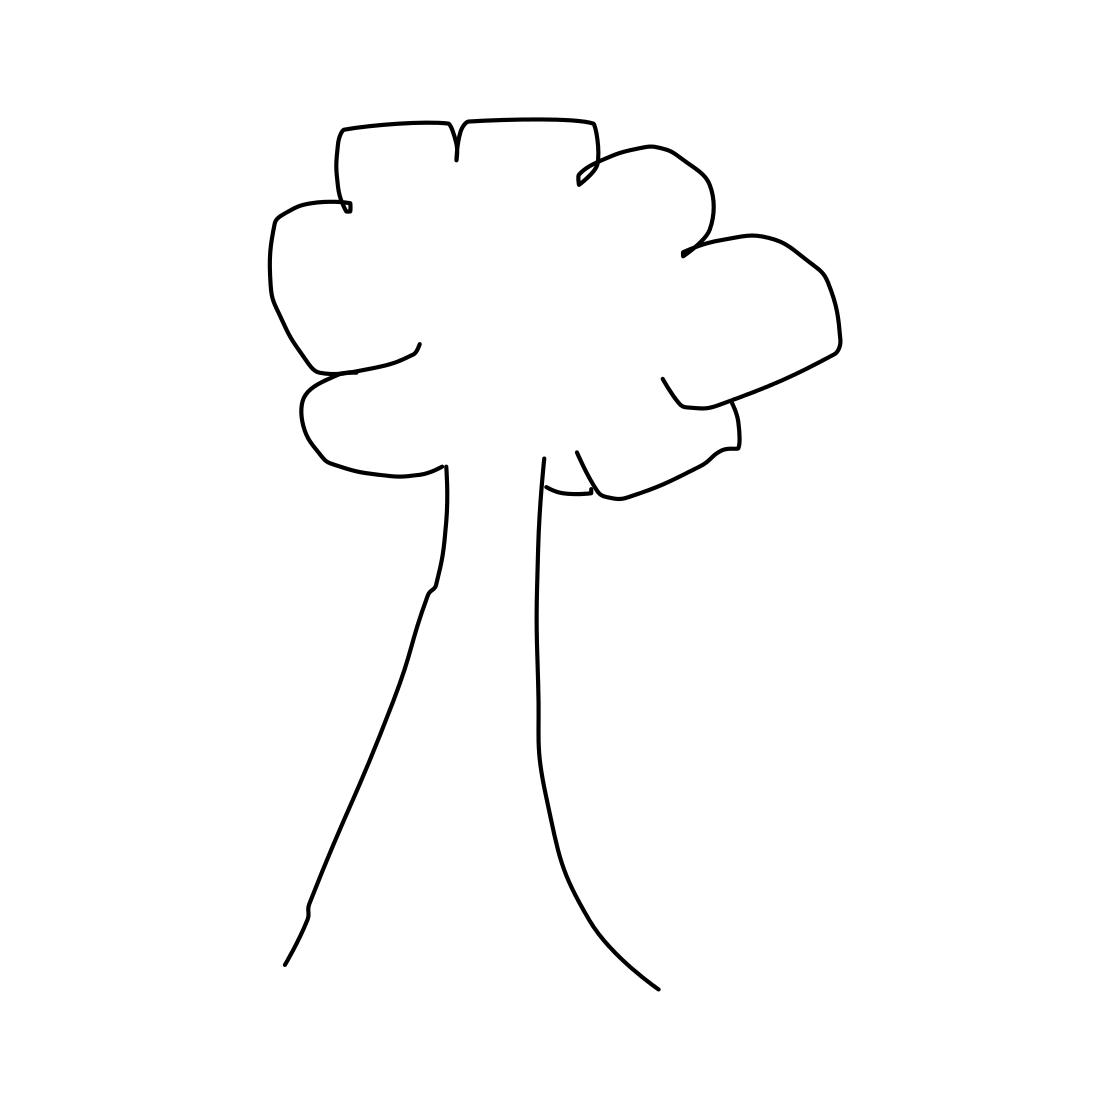Tree: (199, 74, 869, 1005)
